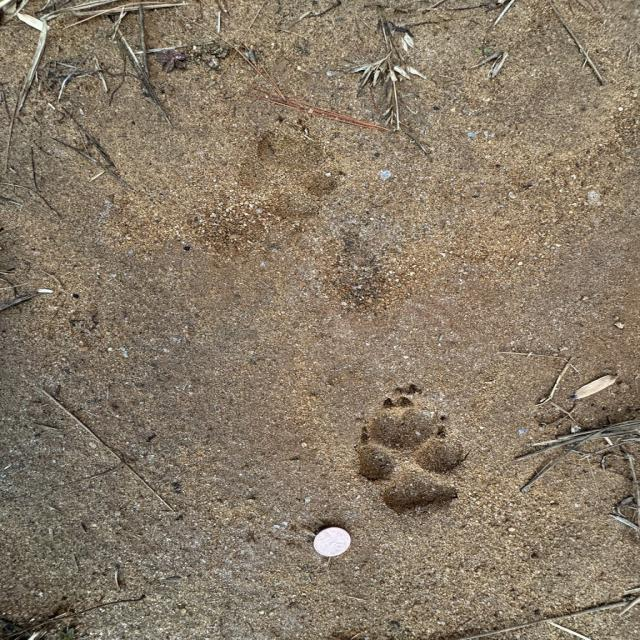canid: (355, 392, 470, 512), (238, 124, 345, 218)
